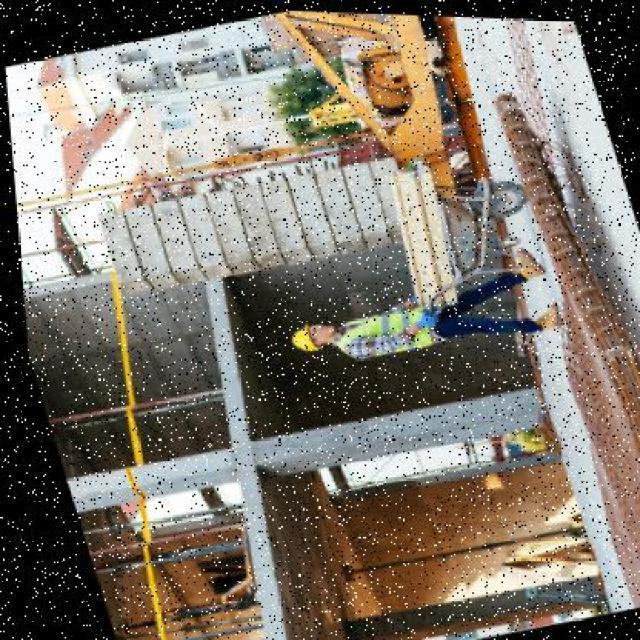helmet: (275, 313, 325, 359)
vest: (320, 285, 451, 365)
